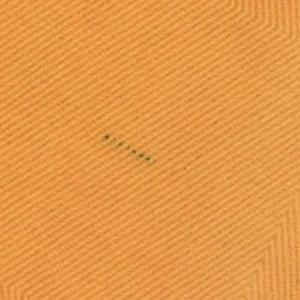stain: (101, 132, 158, 168)
